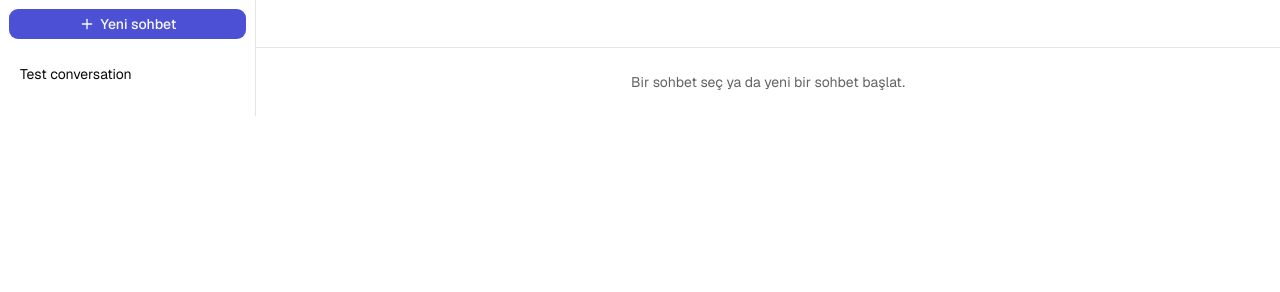
Test case: ChatView › shows the sources list only after reconciliation, only on replies, with deep links
Click the button "Test conversation".
click(128, 74)  # box [8,56,247,92]
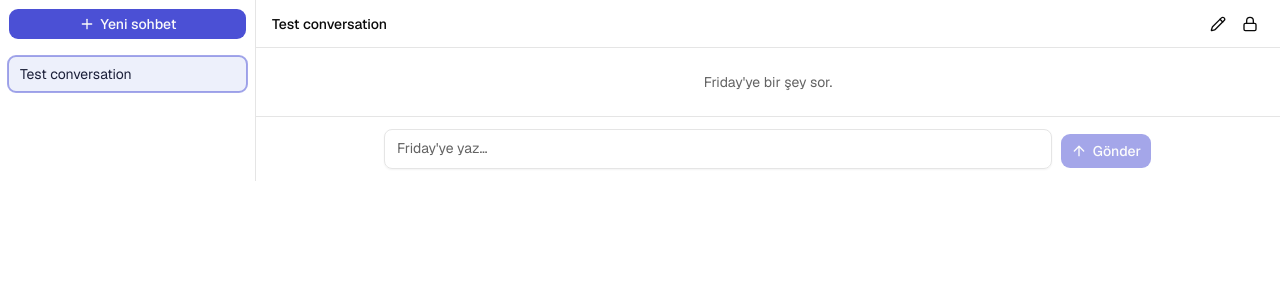
Result: the text box with placeholder "Friday'ye yaz…" is shown
Type "Hi there" into the text box with placeholder "Friday'ye yaz…".
click(718, 149); type("Hi there")  # box [384,129,1052,169]
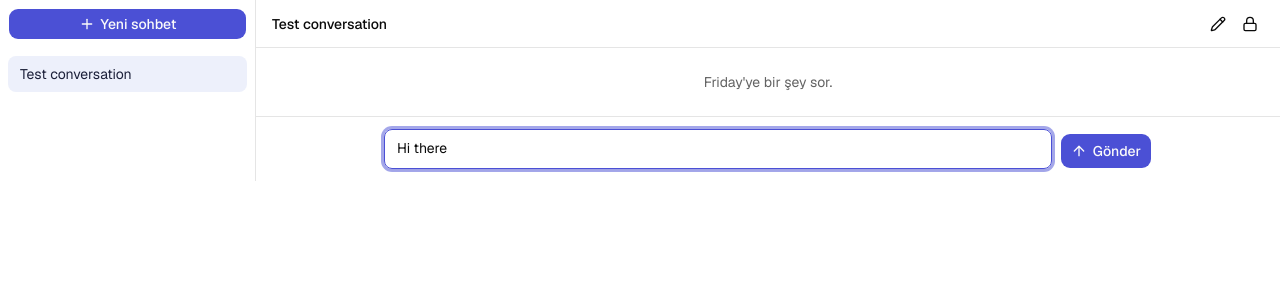
Click the button "Gönder".
click(1106, 151)  # box [1060,133,1152,169]
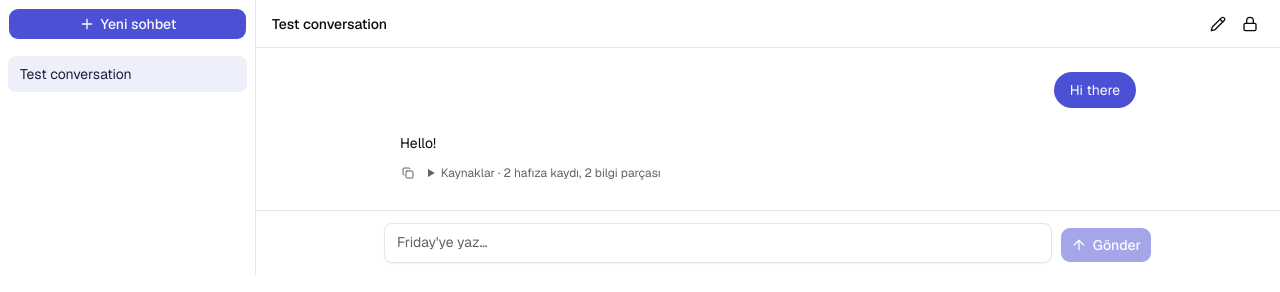
Result: the text "Hello!" is shown at [400,134,436,152]
Result: the number of elements with test id "message-sources" is 1 at [441,165,661,181]
Result: the element with test id "message-sources" reads "Kaynaklar · 2 hafıza kaydı, 2 bilgi parçası" at [441,165,661,181]
